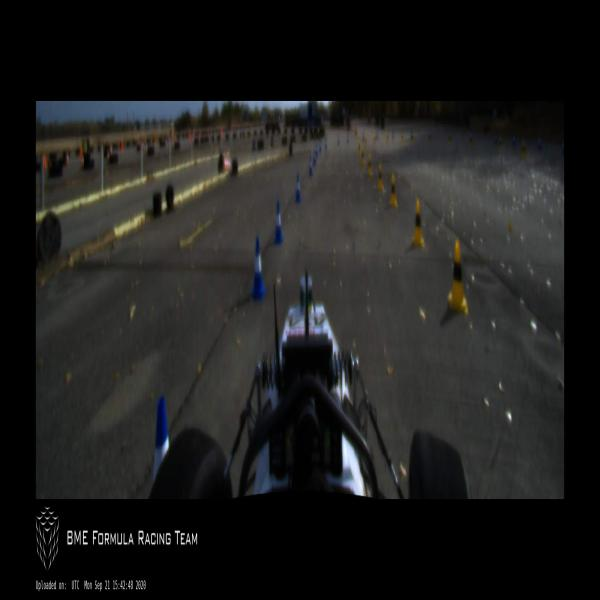blue_cone: (154, 395, 169, 480), (252, 236, 266, 300), (274, 201, 284, 245), (294, 172, 302, 203), (308, 157, 313, 176), (313, 148, 316, 166), (315, 143, 318, 157), (320, 139, 322, 152)
yellow_cone: (447, 241, 468, 313), (412, 200, 425, 246), (390, 174, 398, 207), (378, 165, 384, 191), (521, 138, 526, 158), (368, 154, 372, 176), (361, 148, 365, 166), (358, 140, 361, 156)
